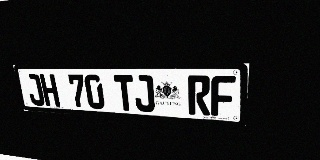0: (83, 74, 105, 109)
7: (67, 74, 88, 108)
F: (211, 76, 236, 117)
H: (39, 74, 60, 107)
J: (133, 75, 155, 112), (25, 74, 45, 106)
R: (188, 75, 210, 116)
T: (114, 75, 136, 111)
